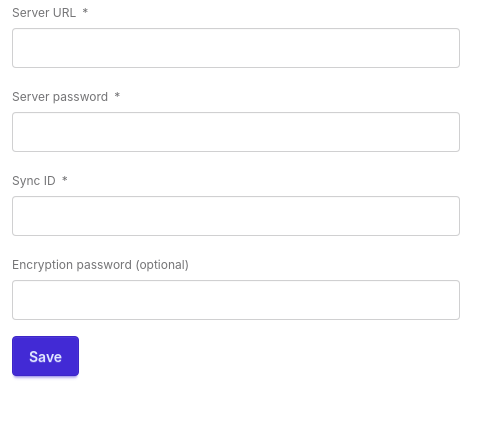
ActualSettingsPage › rejects an invalid URL
In the field labelled "Server URL": x=236, y=48 12,28 -> 460,68, type "ftp://x"
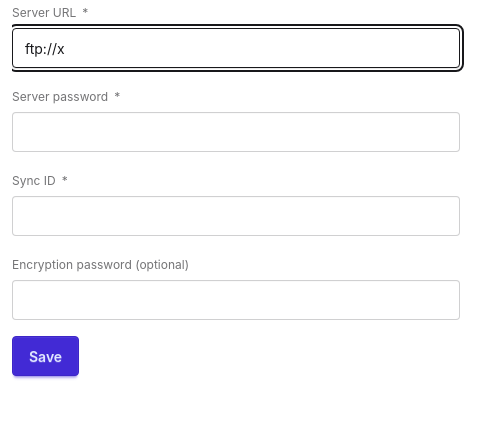
In the password field labelled "Server password": x=236, y=132 12,112 -> 460,152, type "p"
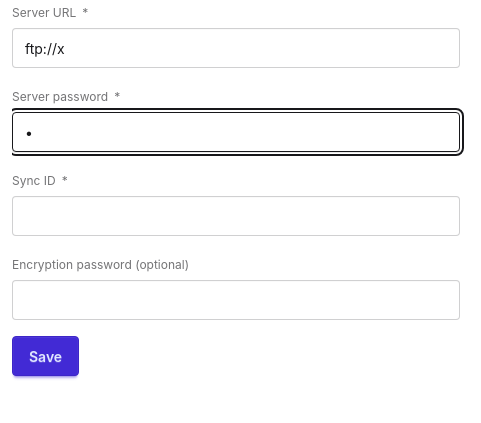
In the field labelled "Sync ID": x=236, y=216 12,196 -> 460,236, type "s"
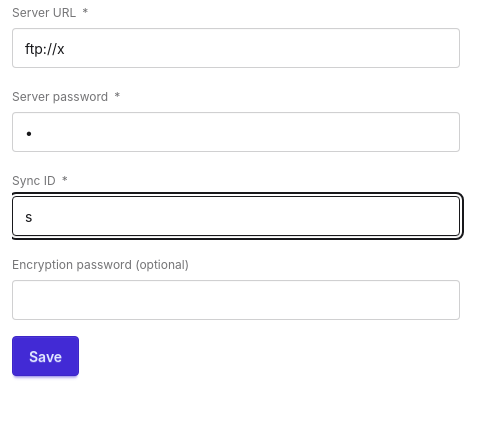
Click the button "Save": x=46, y=356 12,336 -> 79,376
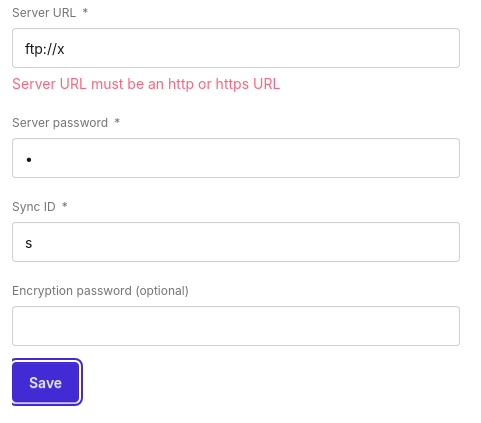
Now the text "Server URL must be an http or https URL" is shown, box 12,75 -> 280,92
